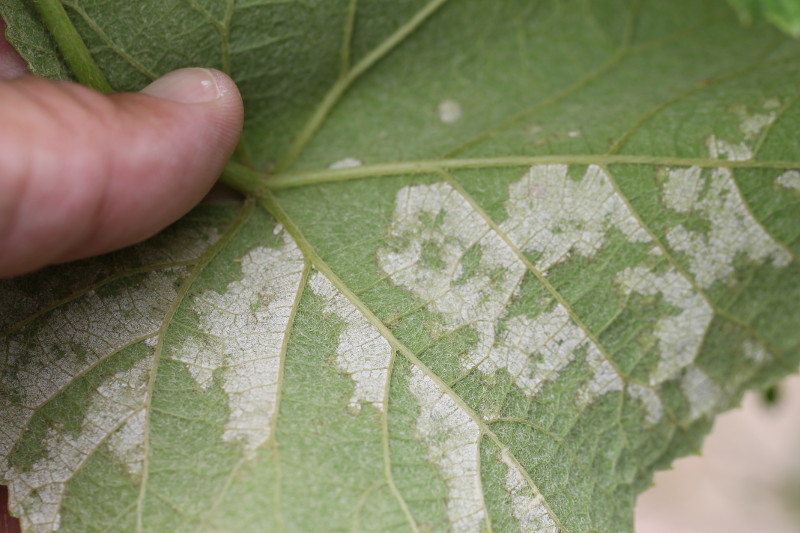downy: (373, 162, 657, 445), (10, 299, 189, 477), (193, 236, 368, 411), (670, 163, 800, 292), (416, 451, 498, 533), (501, 453, 580, 532), (714, 90, 779, 155), (226, 413, 274, 461), (19, 487, 63, 531), (322, 140, 364, 182), (436, 95, 470, 129)
